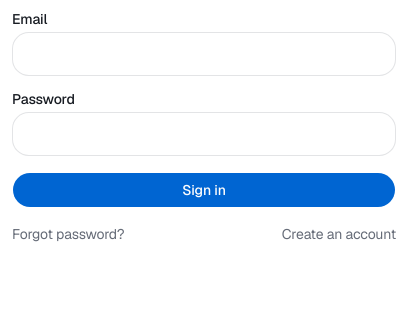
Test: LoginForm › shows validation errors instead of submitting when fields are empty
This screenshot has width=416, height=311.
Click the button "Sign in". click: (204, 190)
box: [12,172,396,208]
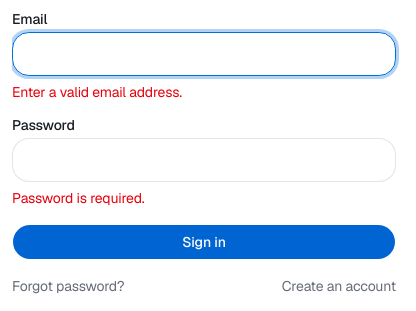
Now the text "Enter a valid email address." is shown, box [12,83,182,101]
